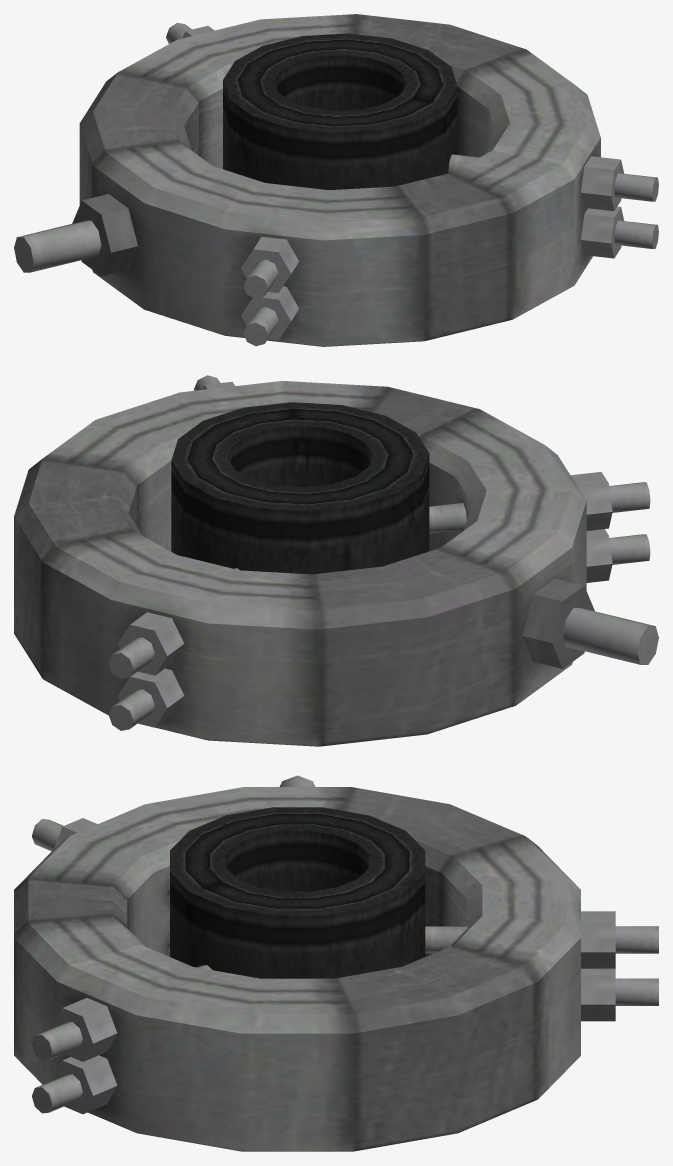
File: ship_component_droidinterface_s01_l0.fbx
The picture shows the model from 3 angles, top to bottom: view 1: azimuth 30°, elevation 25°; view 2: azimuth 150°, elevation 25°; view 3: azimuth 270°, elevation 25°; orthographic projection. The views are drawn at different scales.
Visible parts, largest first — view 1: mesh_node; view 2: mesh_node; view 3: mesh_node.
Part boxes in pixels (box(x1,y1,x2,y2)): mesh_node: box(14, 14, 658, 346); mesh_node: box(14, 375, 658, 746); mesh_node: box(14, 775, 658, 1151).
Bounding box in the file's own units: 0.4762 × 0.13 × 0.4462.
1 material, 1 textured.
